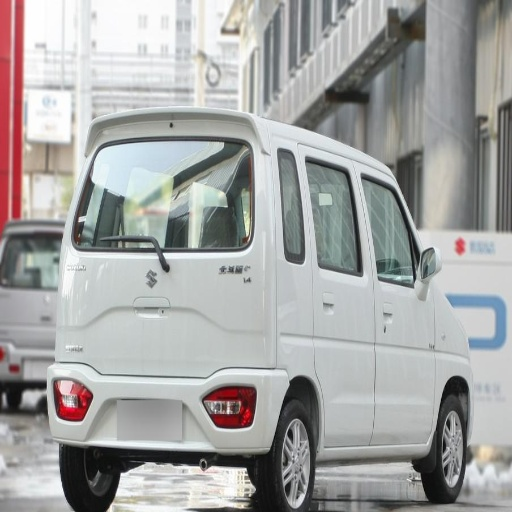back_bumper: (46, 363, 286, 450)
back_glass: (104, 137, 206, 236)
trunk: (26, 226, 305, 425)
